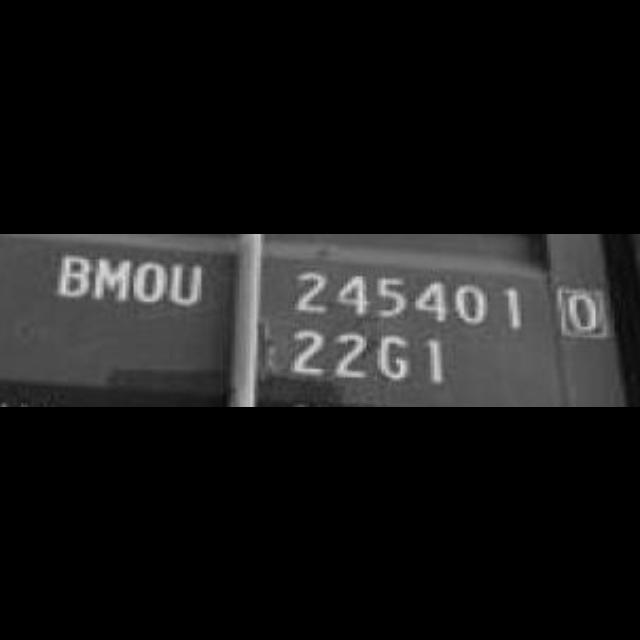0: (560, 286, 602, 338), (451, 276, 487, 326)
1: (420, 332, 450, 392), (498, 280, 526, 334)
2: (330, 326, 372, 384), (288, 324, 328, 380), (290, 266, 332, 316)
4: (333, 264, 372, 322), (413, 273, 449, 323)
5: (375, 269, 409, 321)
b: (53, 249, 95, 301)
g: (373, 327, 413, 389)
m: (92, 251, 134, 309)
o: (132, 256, 166, 302)
u: (168, 258, 206, 308)
